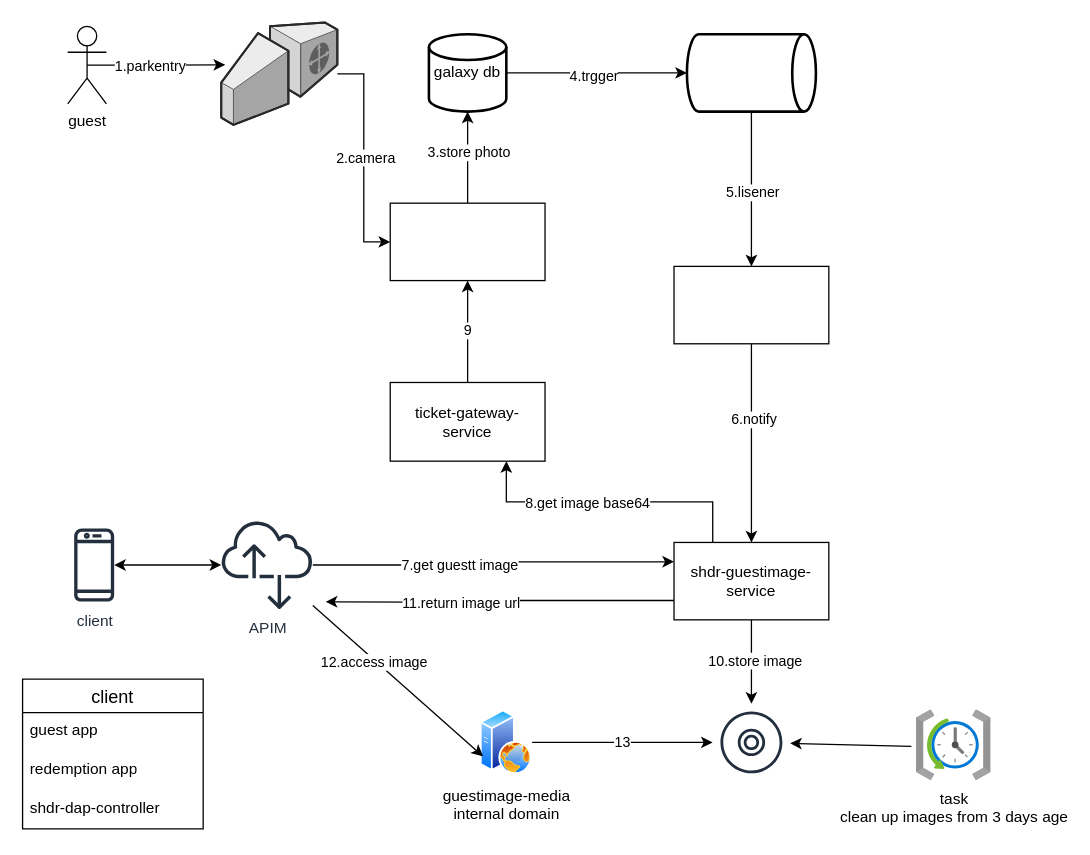
Image size: 1090x855. Some labels were removed from this diagram. Each missing label, with the centre of its shape:
event bus (kafka): the point at 751,72
NAS: the point at 750,741
photo-service: the point at 467,241
ticket-management-service: the point at 751,304
